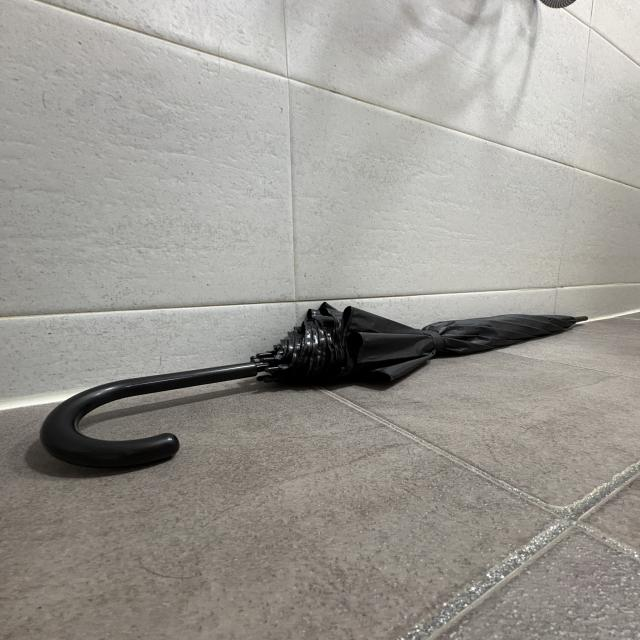umbrella: (42, 300, 588, 470)
